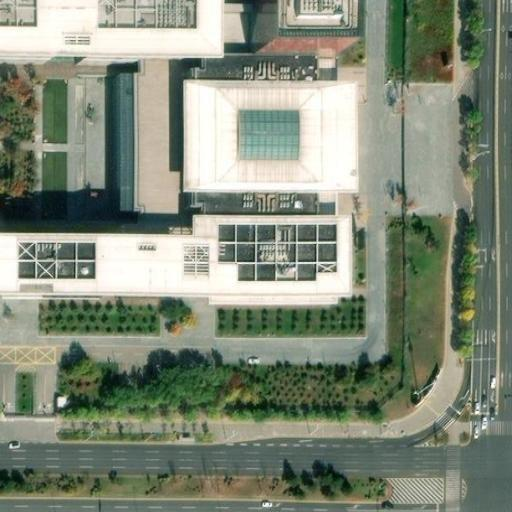building: (0, 54, 353, 293), (255, 0, 342, 43)
